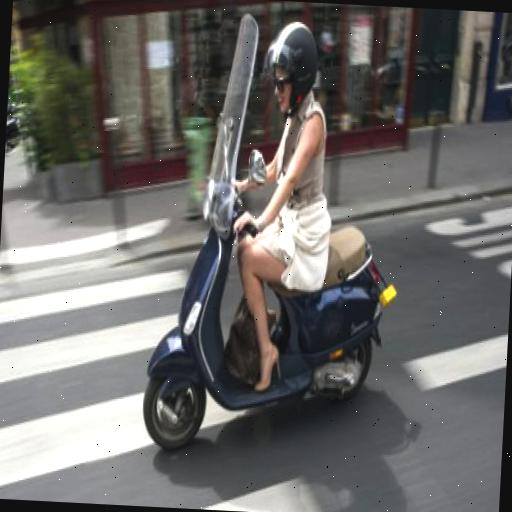helmet: (162, 0, 343, 457)
